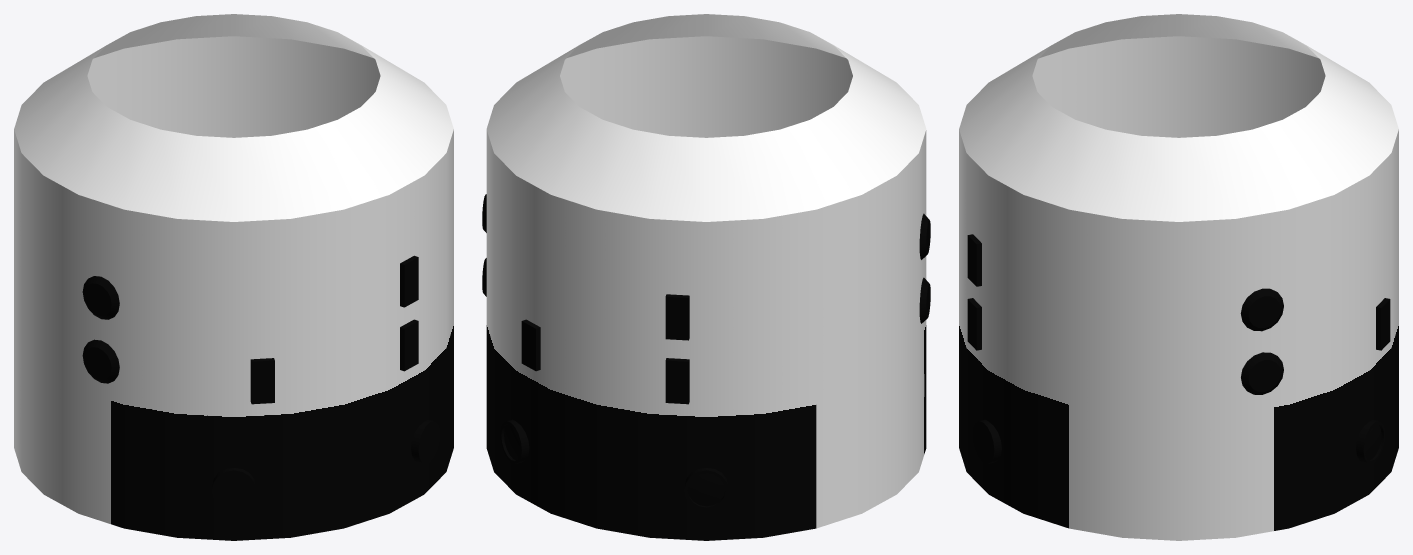
Rendered from hamal_cargo_module_s1_1.obj.
The picture shows the model from 3 angles, left to right: view 1: azimuth 30°, elevation 25°; view 2: azimuth 150°, elevation 25°; view 3: azimuth 270°, elevation 25°; orthographic projection.
Parts seen in each view (by area): view 1: 2; view 2: 2, w2; view 3: 2.
Part boxes in pixels (box(x1,y1,x2,y2)): 2: box(14, 14, 453, 540); 2: box(482, 14, 930, 540); w2: box(504, 424, 725, 506); 2: box(959, 14, 1398, 540).
Bounding box in the file's own units: 1.88 × 2 × 1.88.
